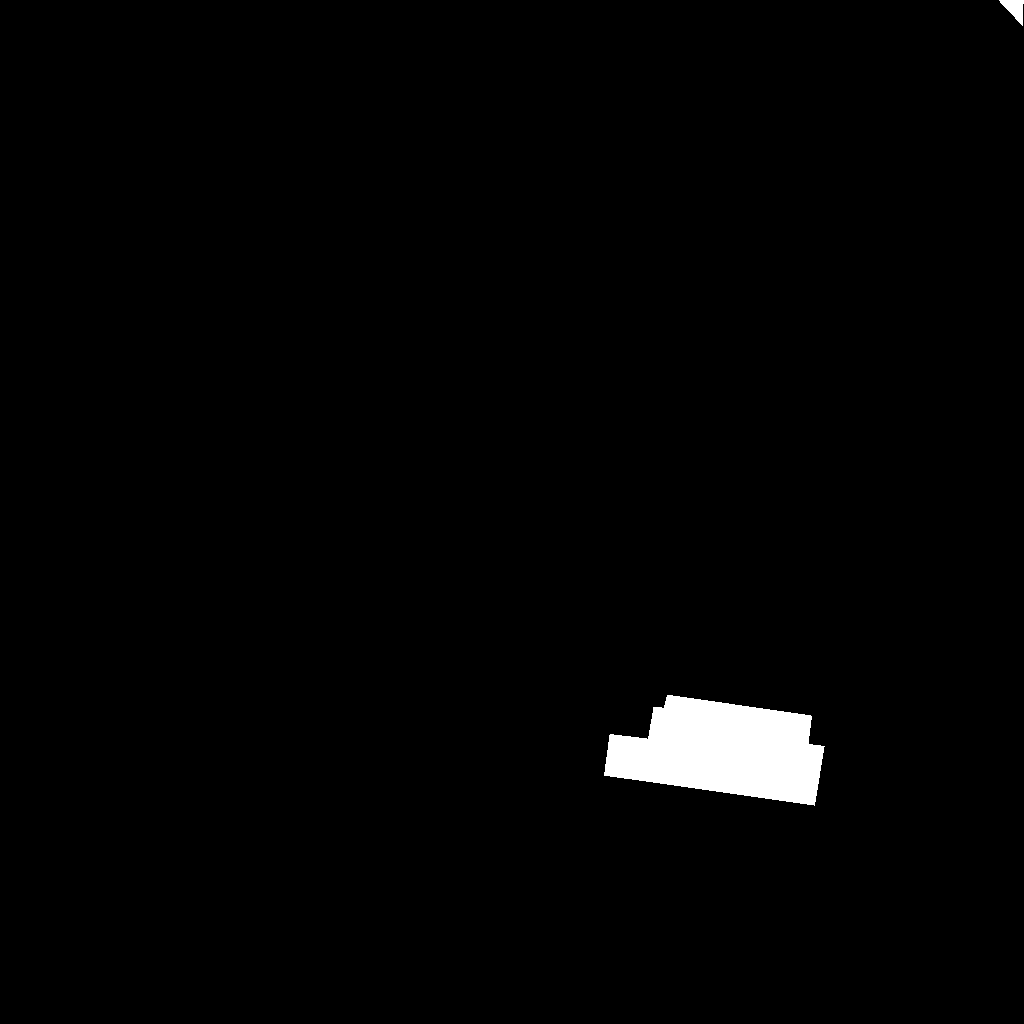building: (604, 695, 825, 806), (998, 0, 1024, 27)
